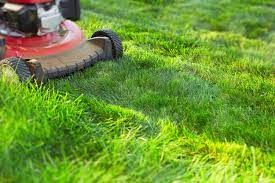grass: (1, 81, 269, 179), (123, 1, 272, 79)
